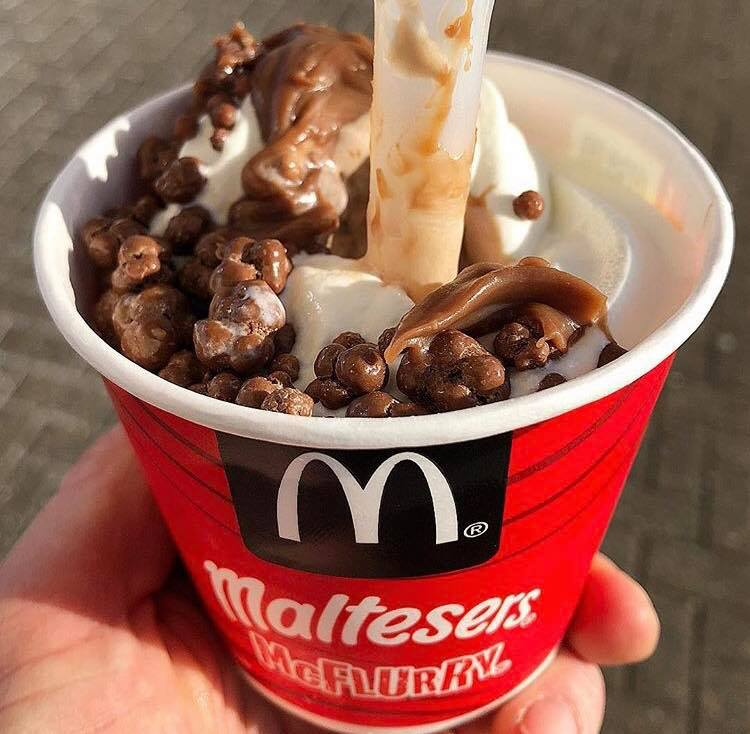mcdonalds: (267, 444, 472, 573)
